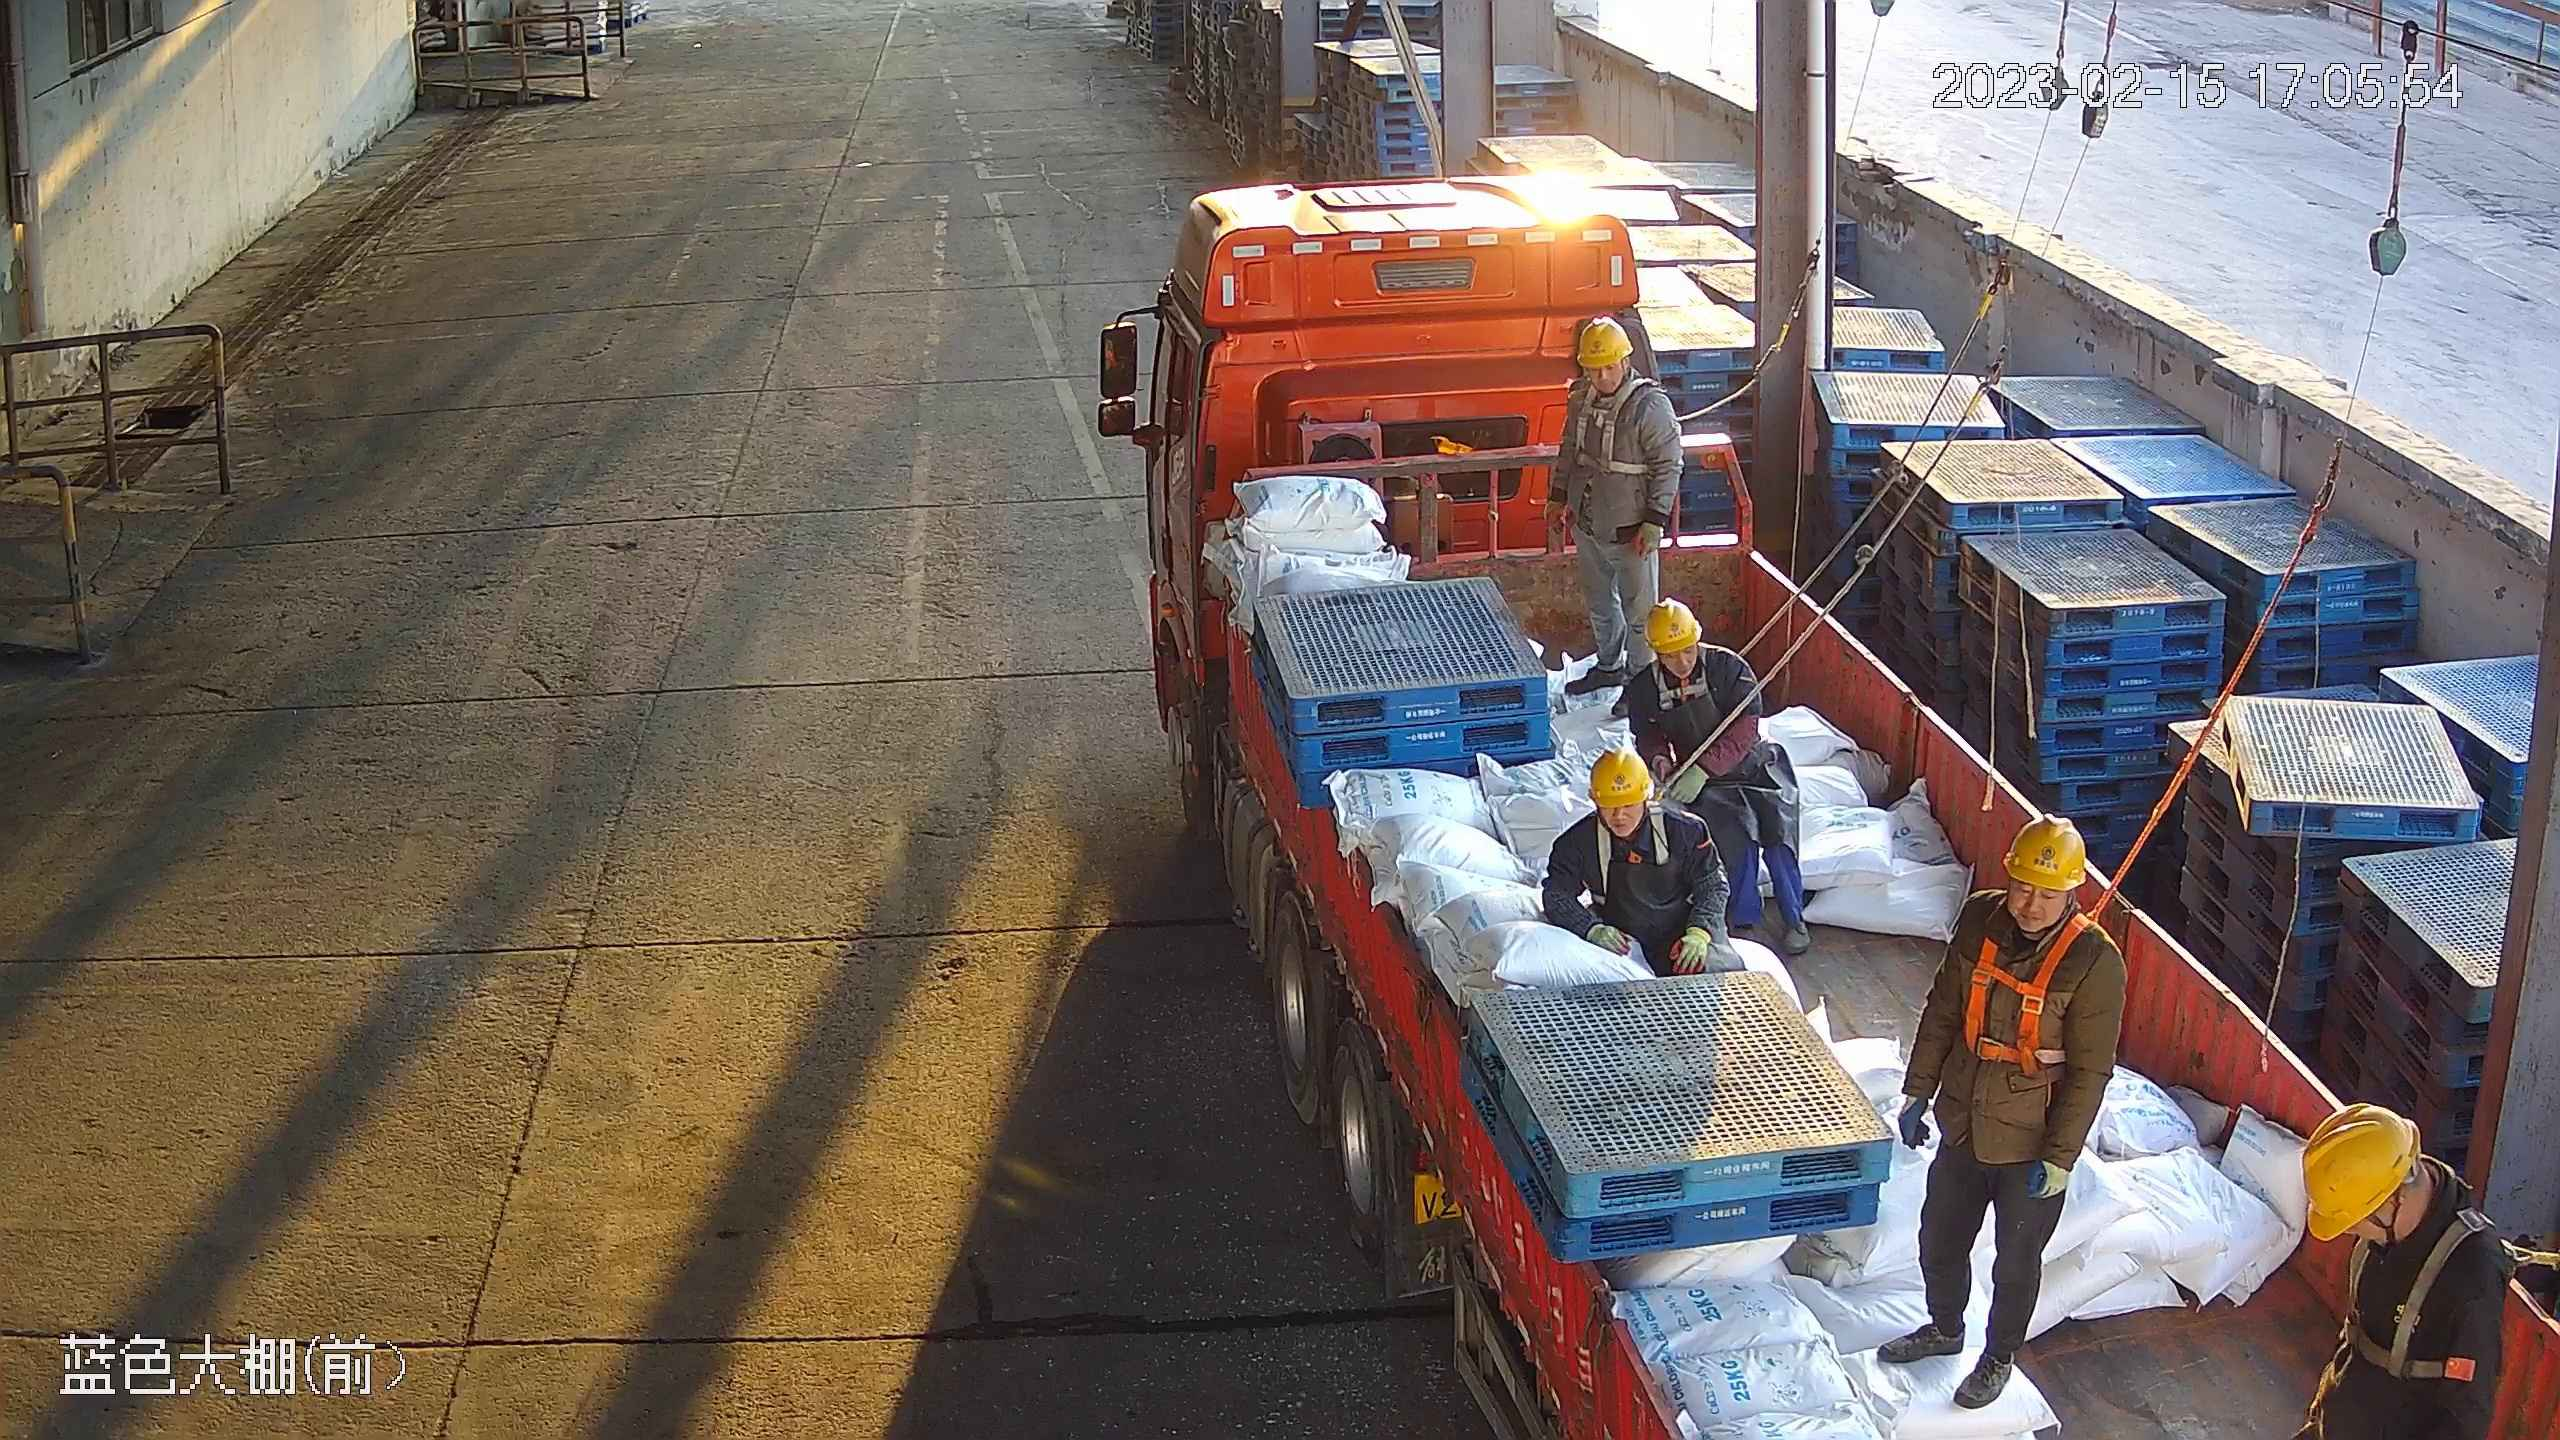belt: (2343, 1221, 2495, 1376), (1968, 920, 2100, 1071), (1568, 379, 1667, 477), (1583, 812, 1674, 882), (1645, 657, 1719, 707)
head: (1915, 811, 2128, 1016), (2304, 1105, 2505, 1318), (1549, 748, 1712, 877), (1563, 316, 1673, 434), (1632, 598, 1752, 707)
helmet: (2304, 1103, 2421, 1244), (2001, 813, 2085, 890), (1589, 750, 1653, 808), (1643, 597, 1702, 654), (1573, 319, 1633, 364)
people: (1876, 811, 2128, 1411), (2296, 1103, 2514, 1439), (1630, 596, 1813, 956), (1544, 316, 1687, 718), (1543, 746, 1753, 977)
truck: (1095, 169, 2560, 1440)
